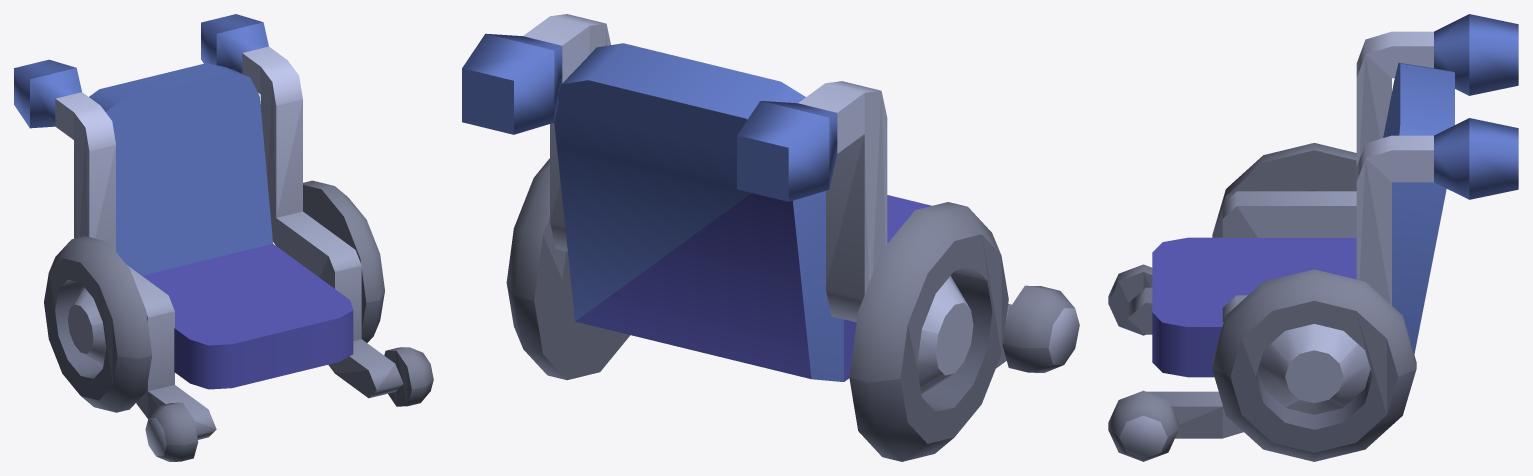
File: cadeira-rodas.glb
3 renders of one model, left to right at view 1: azimuth 30°, elevation 25°; view 2: azimuth 150°, elevation 25°; view 3: azimuth 270°, elevation 25°, orthographic. The views are drawn at different scales.
Parts seen in each view (by area): view 1: wheelchair; view 2: wheelchair; view 3: wheelchair.
Part boxes in pixels (box(x1,y1,x2,y2)): wheelchair: box(14, 14, 433, 461); wheelchair: box(462, 14, 1079, 461); wheelchair: box(1108, 14, 1518, 461).
Size of the model in its own units: 0.5 by 0.495 by 0.5824.
